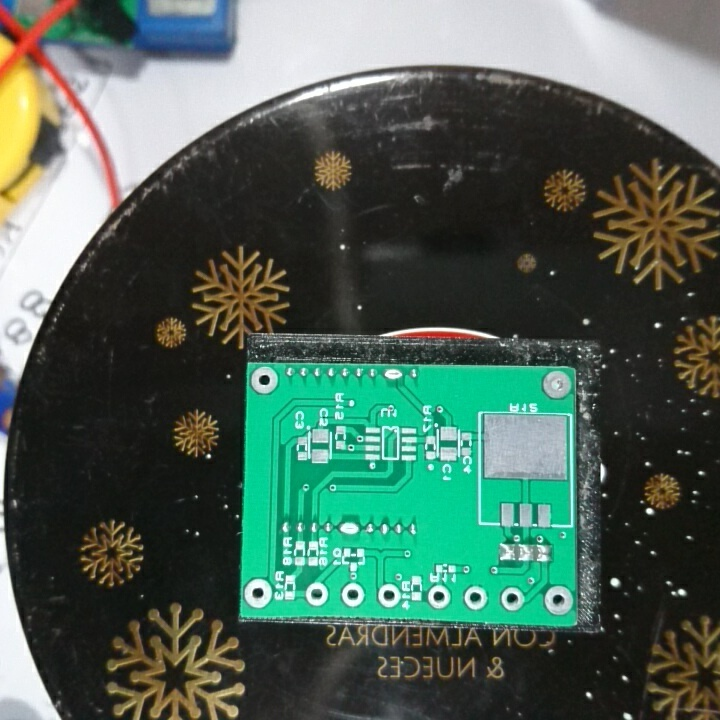F: (242, 577, 276, 609), (540, 370, 573, 401), (249, 364, 280, 396), (543, 586, 574, 616), (426, 583, 453, 612), (498, 585, 525, 613), (340, 581, 366, 610), (463, 585, 489, 613), (377, 583, 401, 610), (304, 583, 330, 607)
P: (336, 518, 361, 538), (382, 366, 404, 384)
